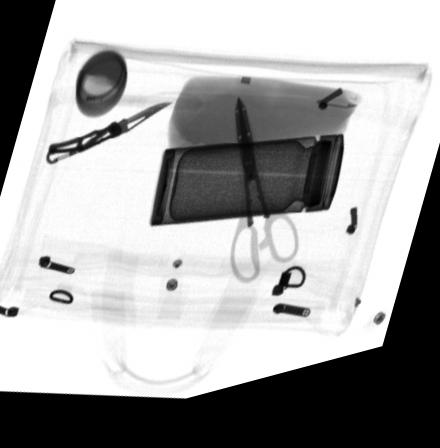Knife: (45, 109, 172, 166)
Scissors: (228, 106, 300, 296)
